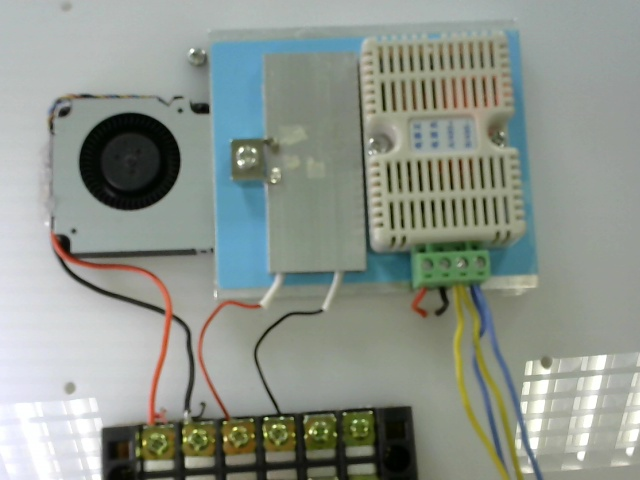fan: (41, 92, 208, 271)
termperature: (354, 30, 534, 249)
